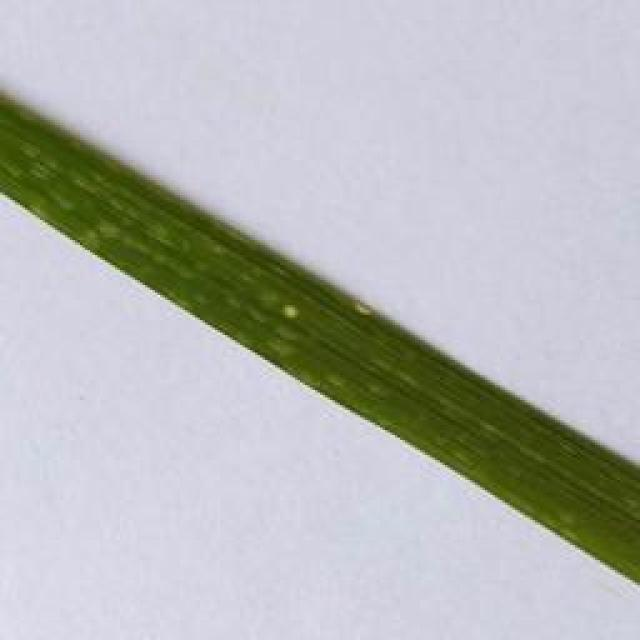Unhealthy: (352, 301, 373, 314), (283, 304, 299, 319)
